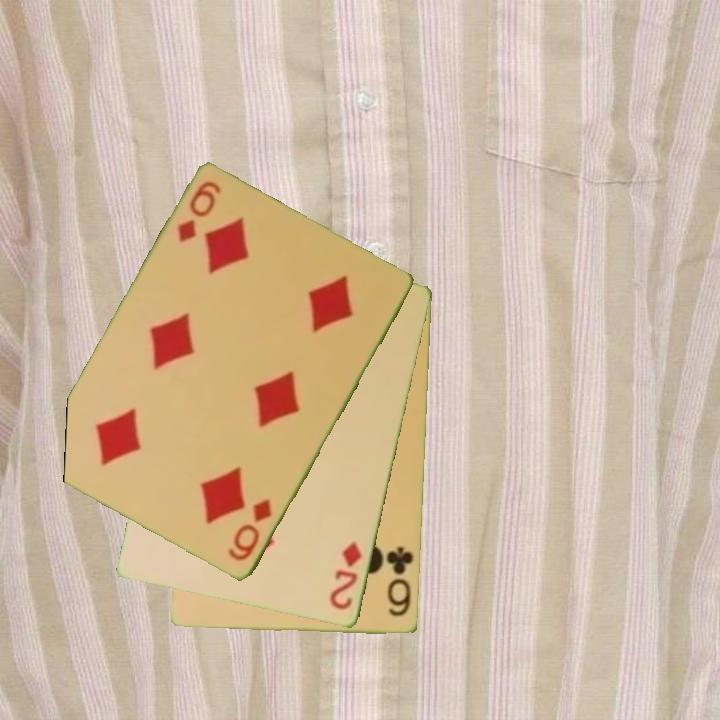2d: (326, 538, 365, 613)
6c: (383, 544, 417, 620)
6d: (224, 496, 275, 565), (174, 178, 224, 246)
